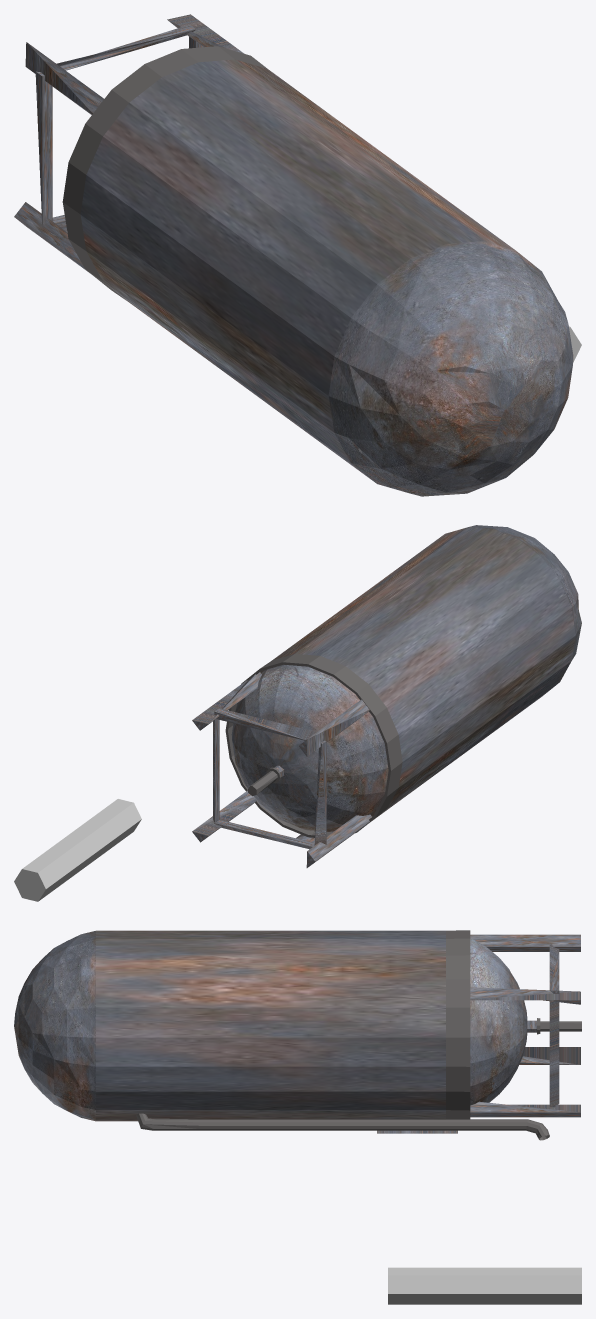
Rendered from propanetank_wtf.obj.
3 views of the same model, one above another, from view 1: azimuth 30°, elevation 25°; view 2: azimuth 150°, elevation 25°; view 3: azimuth 270°, elevation 25° (orthographic). The views are drawn at different scales.
Parts seen in each view (by area): view 1: group8, group10, group16, group6, group14; view 2: group8, group16, group6, group2; view 3: group8, group16, group10, group2, group6, group7.
Part boxes in pixels (x1=…): group8: x1=80, y1=59, x2=563, y2=495; group10: x1=349, y1=253, x2=573, y2=496; group16: x1=62, y1=46, x2=267, y2=300; group6: x1=14, y1=14, x2=244, y2=271; group14: x1=42, y1=41, x2=203, y2=231; group8: x1=272, y1=525, x2=581, y2=820; group16: x1=225, y1=654, x2=402, y2=837; group6: x1=192, y1=672, x2=371, y2=867; group2: x1=14, y1=799, x2=141, y2=901; group8: x1=67, y1=930, x2=445, y2=1121; group16: x1=446, y1=930, x2=527, y2=1119; group10: x1=14, y1=934, x2=81, y2=1110; group2: x1=388, y1=1267, x2=581, y2=1304; group6: x1=470, y1=934, x2=580, y2=1117; group7: x1=136, y1=1113, x2=527, y2=1130.
Size of the model in its own units: 436 by 324 by 660.
